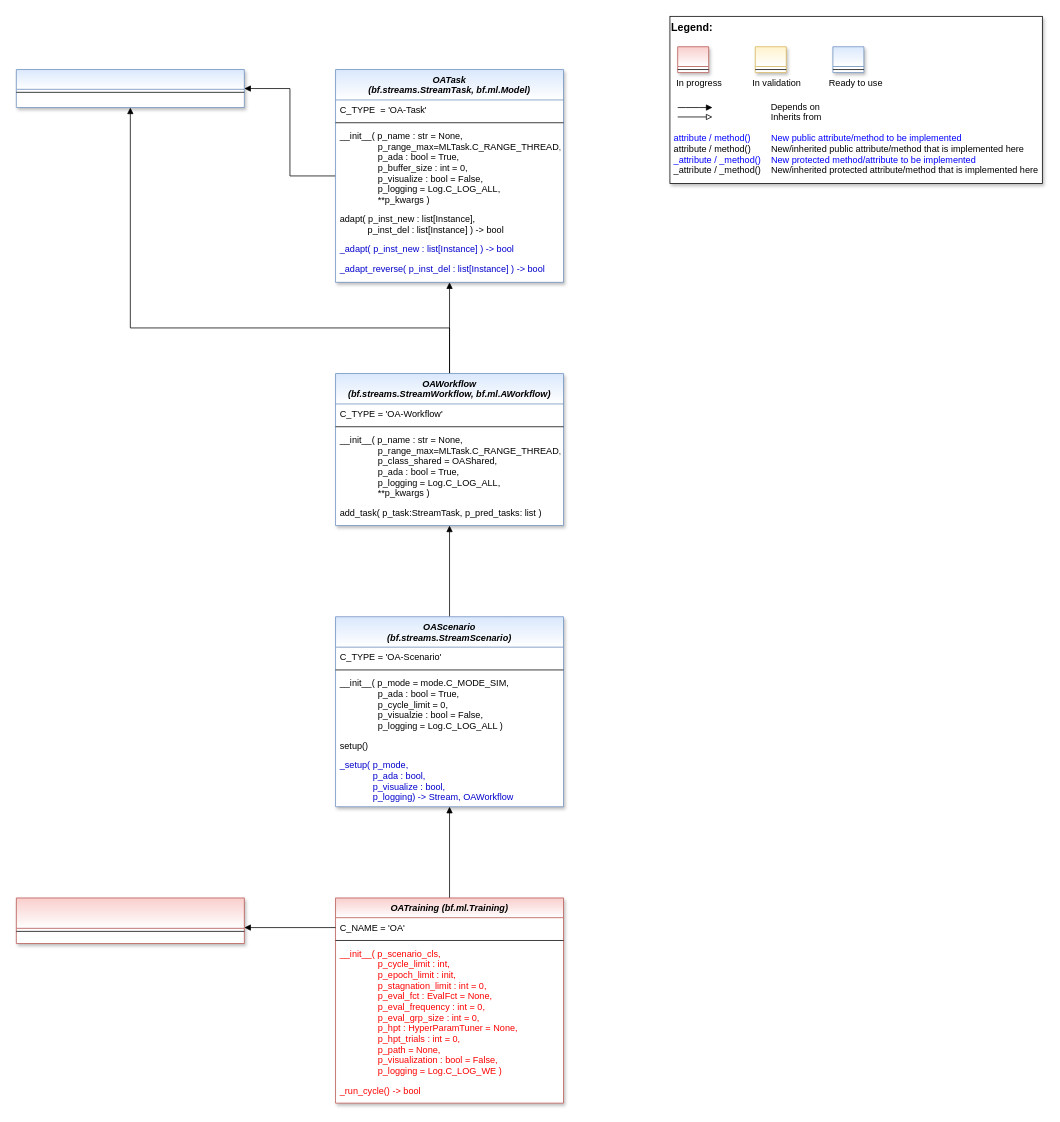
Image size: 1060x1122. Some labels were removed from this diagram. The centre of each missing label's shape, as x and y in pixels:
"OAShared (bf.streams.StreamShared)" goes at point 131,89.
"OATrainingResults (bf.ml.TrainingResults)" goes at point 131,921.
